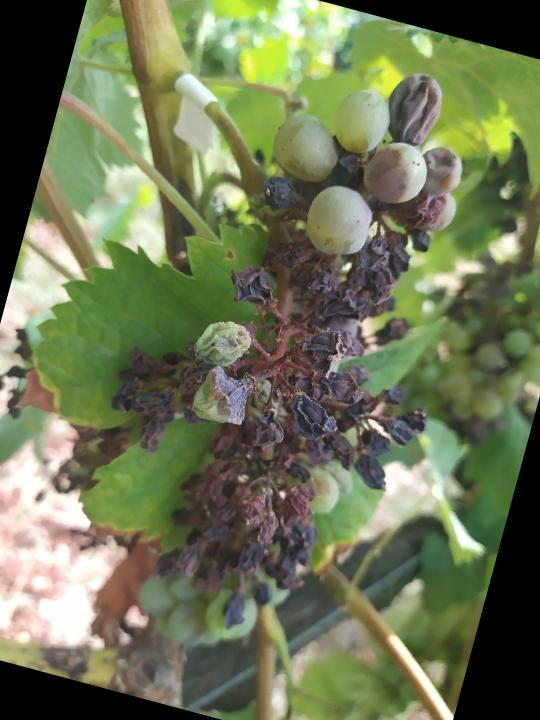grape: (53, 12, 521, 669)
